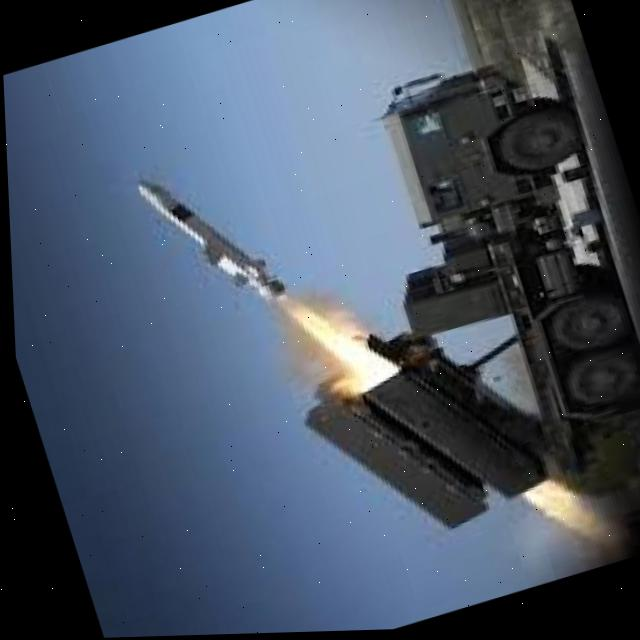missile: (126, 148, 284, 334)
